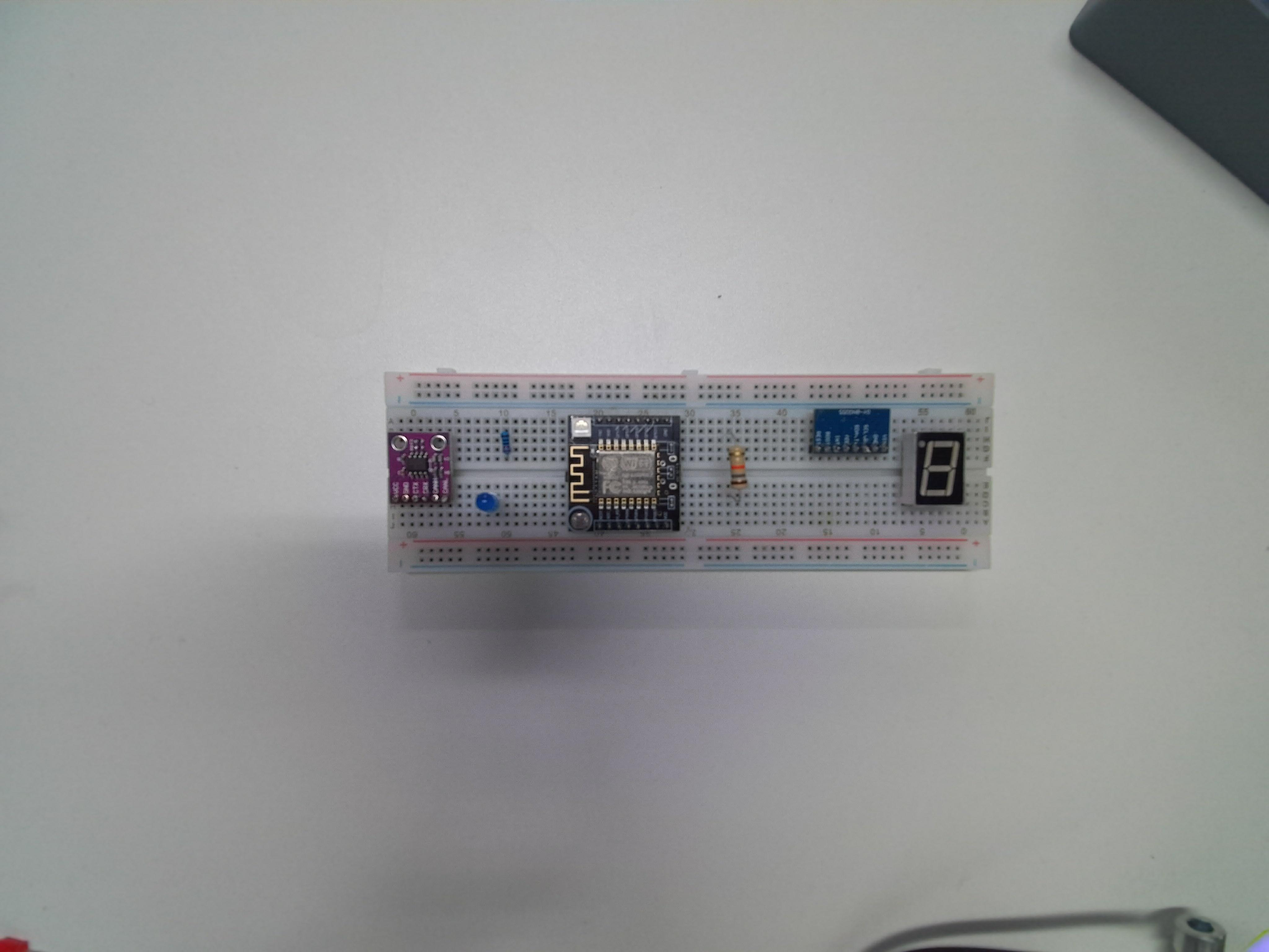base: (381, 370, 997, 581)
blue-board: (809, 405, 892, 460)
blue-led: (473, 491, 500, 517)
digit-board: (895, 428, 967, 508)
esp: (566, 413, 685, 535)
purple-board: (387, 428, 453, 508)
resistor-big: (727, 446, 750, 494)
resistor-small: (500, 428, 513, 456)
